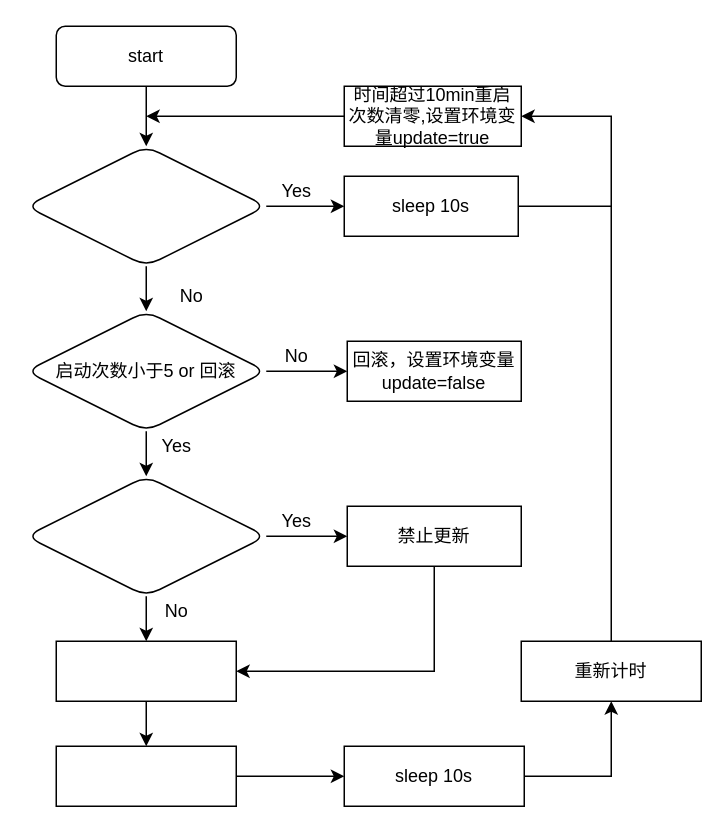
Some shapes in this 728 by 833 pixel diagram are drawn without their labels. The shapes that lost their labels are listed below. From the top down, each one's box as (x1, y1, x2, y2) in pixels, then its label:
(25, 145, 266, 266): robot是否启动
(25, 475, 266, 596): 是否回滚
(55, 640, 236, 701): 启动robot
(55, 745, 236, 806): 启动次数加一
